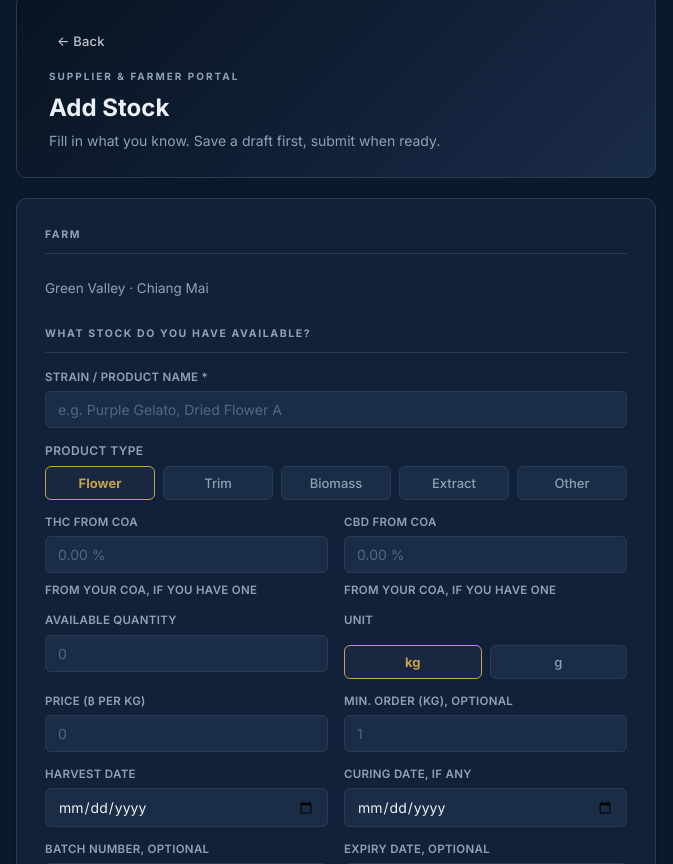
Test: a rejected submission must not look like a successful one › DOES show the success screen when the write commits
The image size is (673, 864).
Step 1. Type "Sativa Gold" into the field with placeholder "e.g. Purple Gelato, Dried Flower A" → (336, 410), box [45, 391, 627, 428]
(page scrolled)
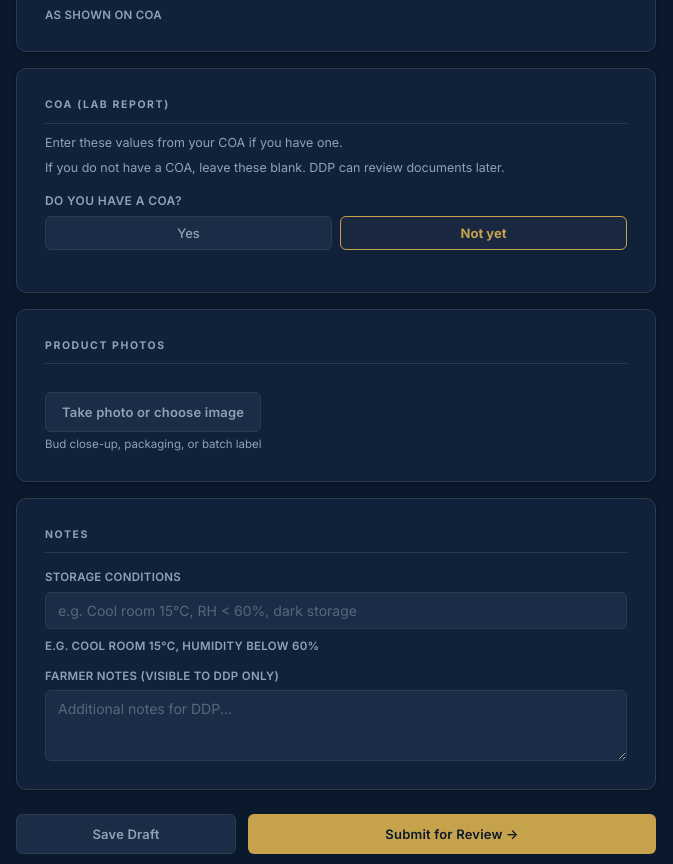
Step 2. Click the button "Submit for Review →" → (452, 834), box [248, 814, 656, 854]
(page scrolled)
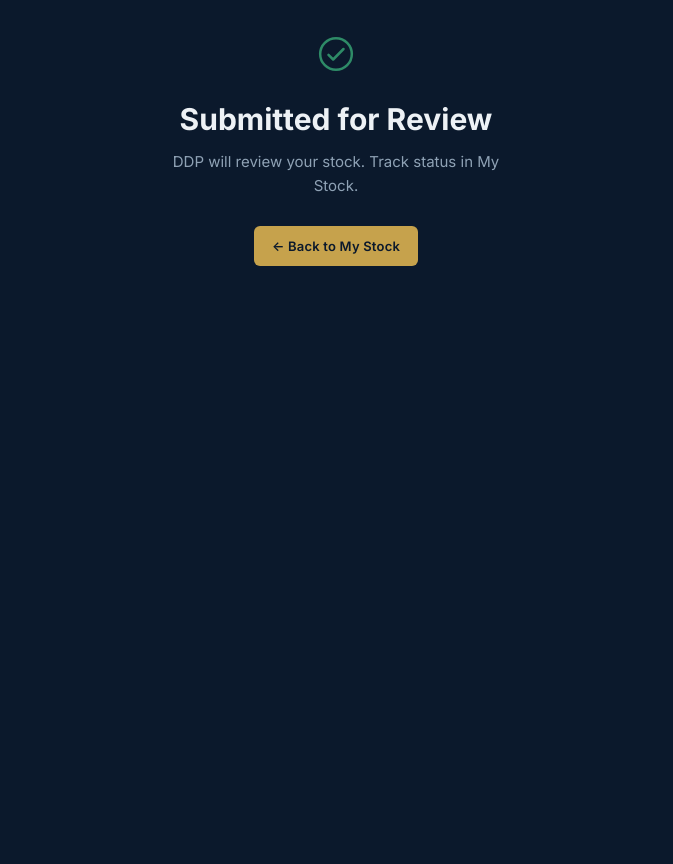
Now the heading "Submitted for Review" is shown, box [180, 100, 492, 136]
